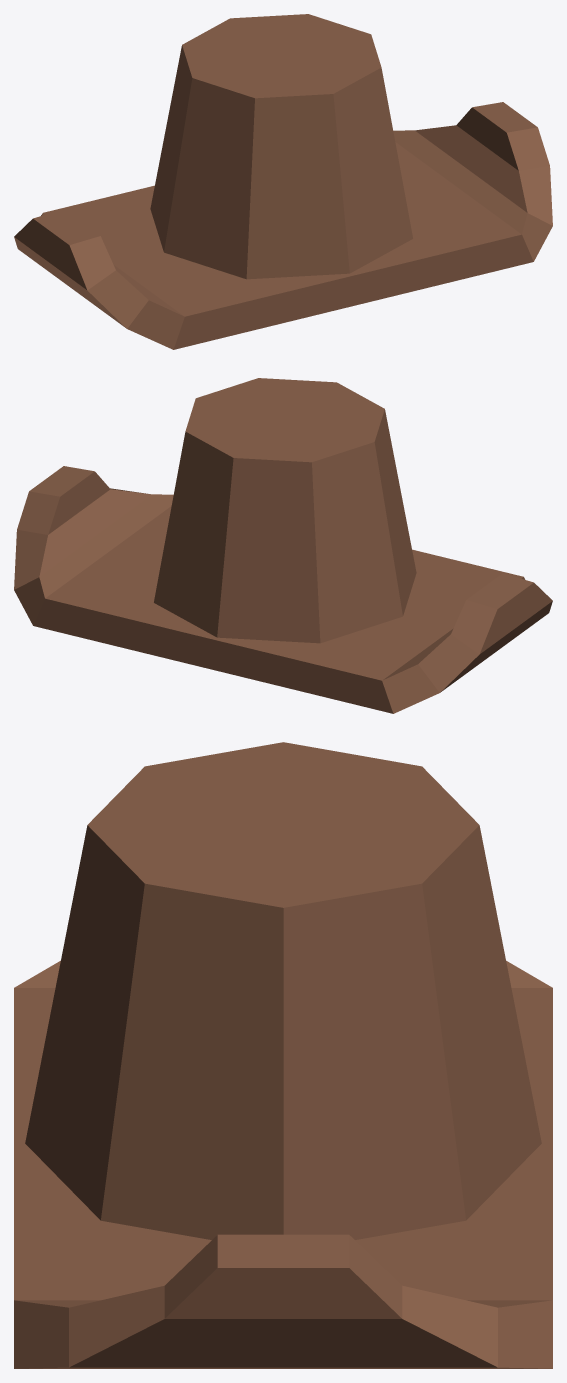
The model's file is CowboyHat 1.fbx.
The picture shows the model from 3 angles, top to bottom: view 1: azimuth 30°, elevation 25°; view 2: azimuth 150°, elevation 25°; view 3: azimuth 270°, elevation 25°; orthographic projection. The views are drawn at different scales.
Parts seen in each view (by area): view 1: Cylinder; view 2: Cylinder; view 3: Cylinder.
Part boxes in pixels (x1=…): Cylinder: x1=14, y1=14, x2=552, y2=349; Cylinder: x1=14, y1=378, x2=552, y2=713; Cylinder: x1=14, y1=742, x2=552, y2=1368.
Bounding box in the file's own units: 397 × 160 × 208.
